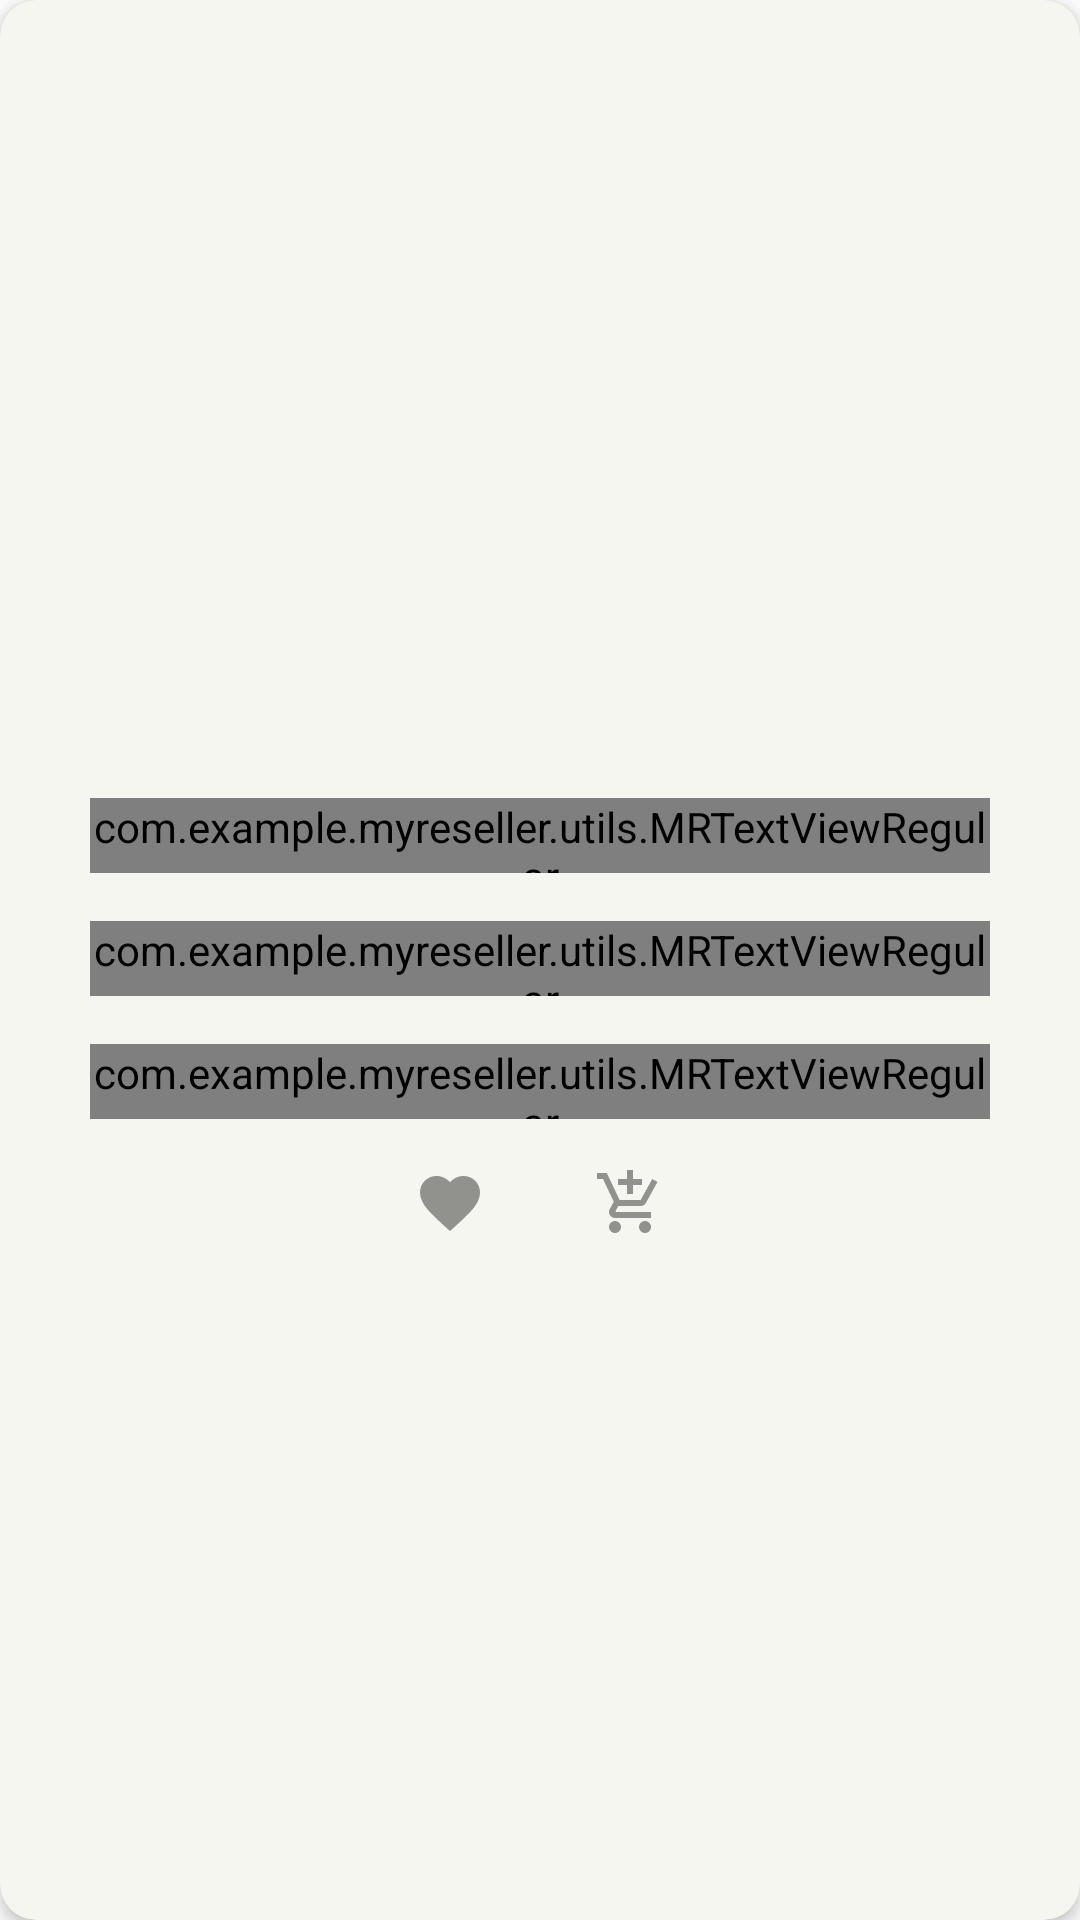

Screen size 1080px x 1920px. Icon name, then its box in pixels as (x1=x1, y1=y1, x2=x2, y2=y2):
add shopping cart: (x1=597, y1=1170, x2=657, y2=1233)
This is the like button: (x1=420, y1=1176, x2=480, y2=1231)
